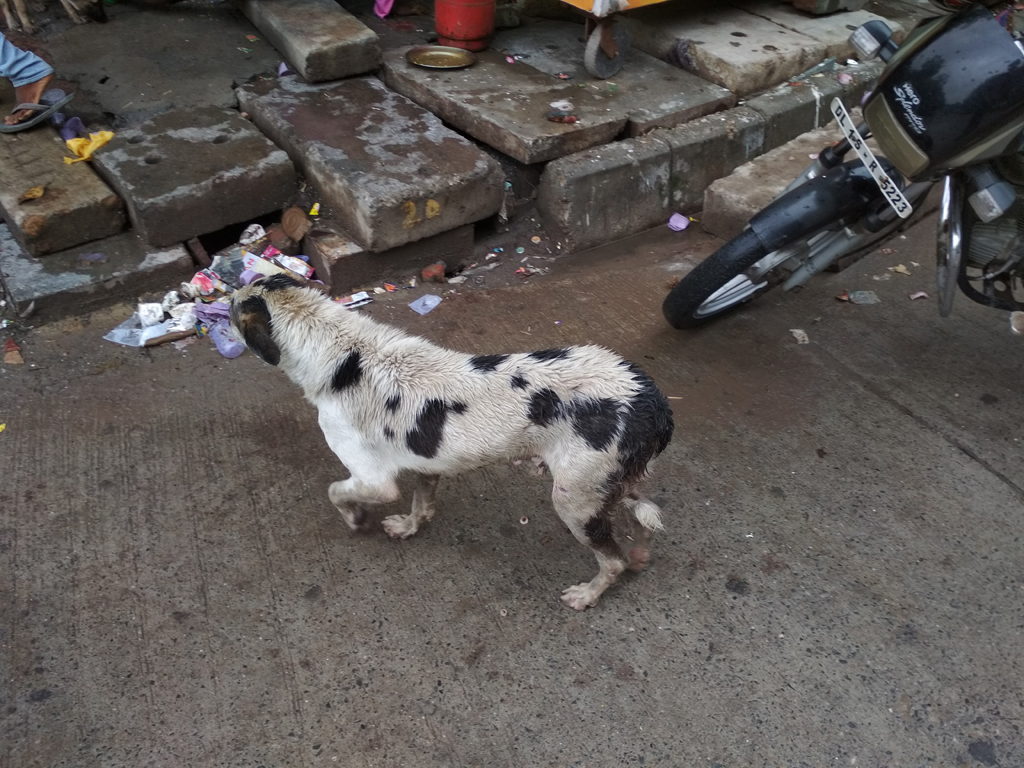dog: (230, 273, 673, 609)
